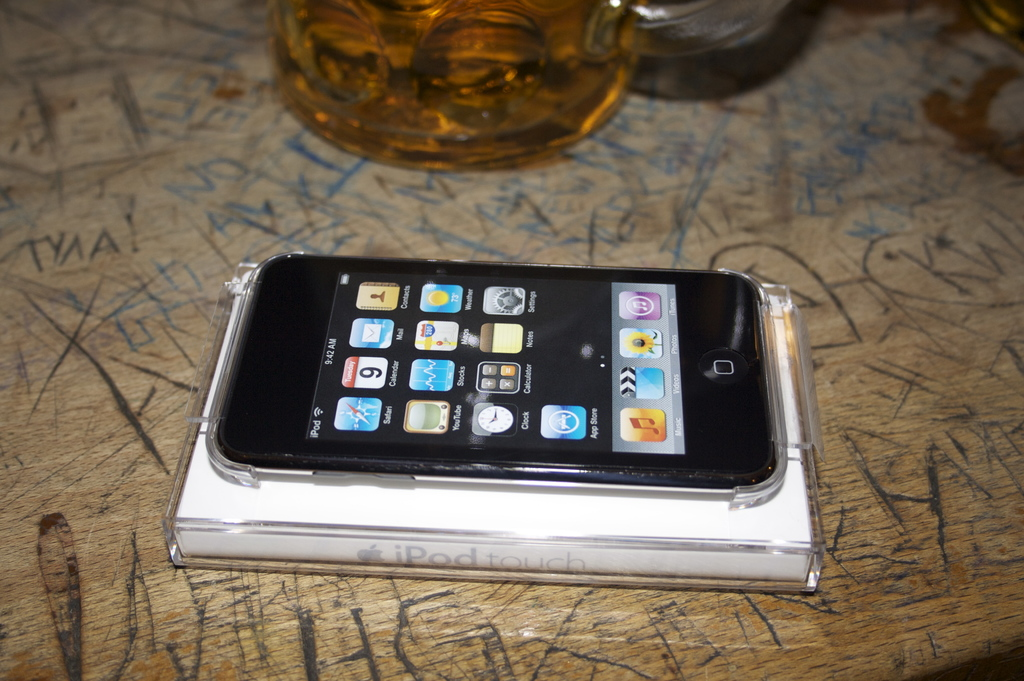mobile phone: (211, 235, 819, 545)
